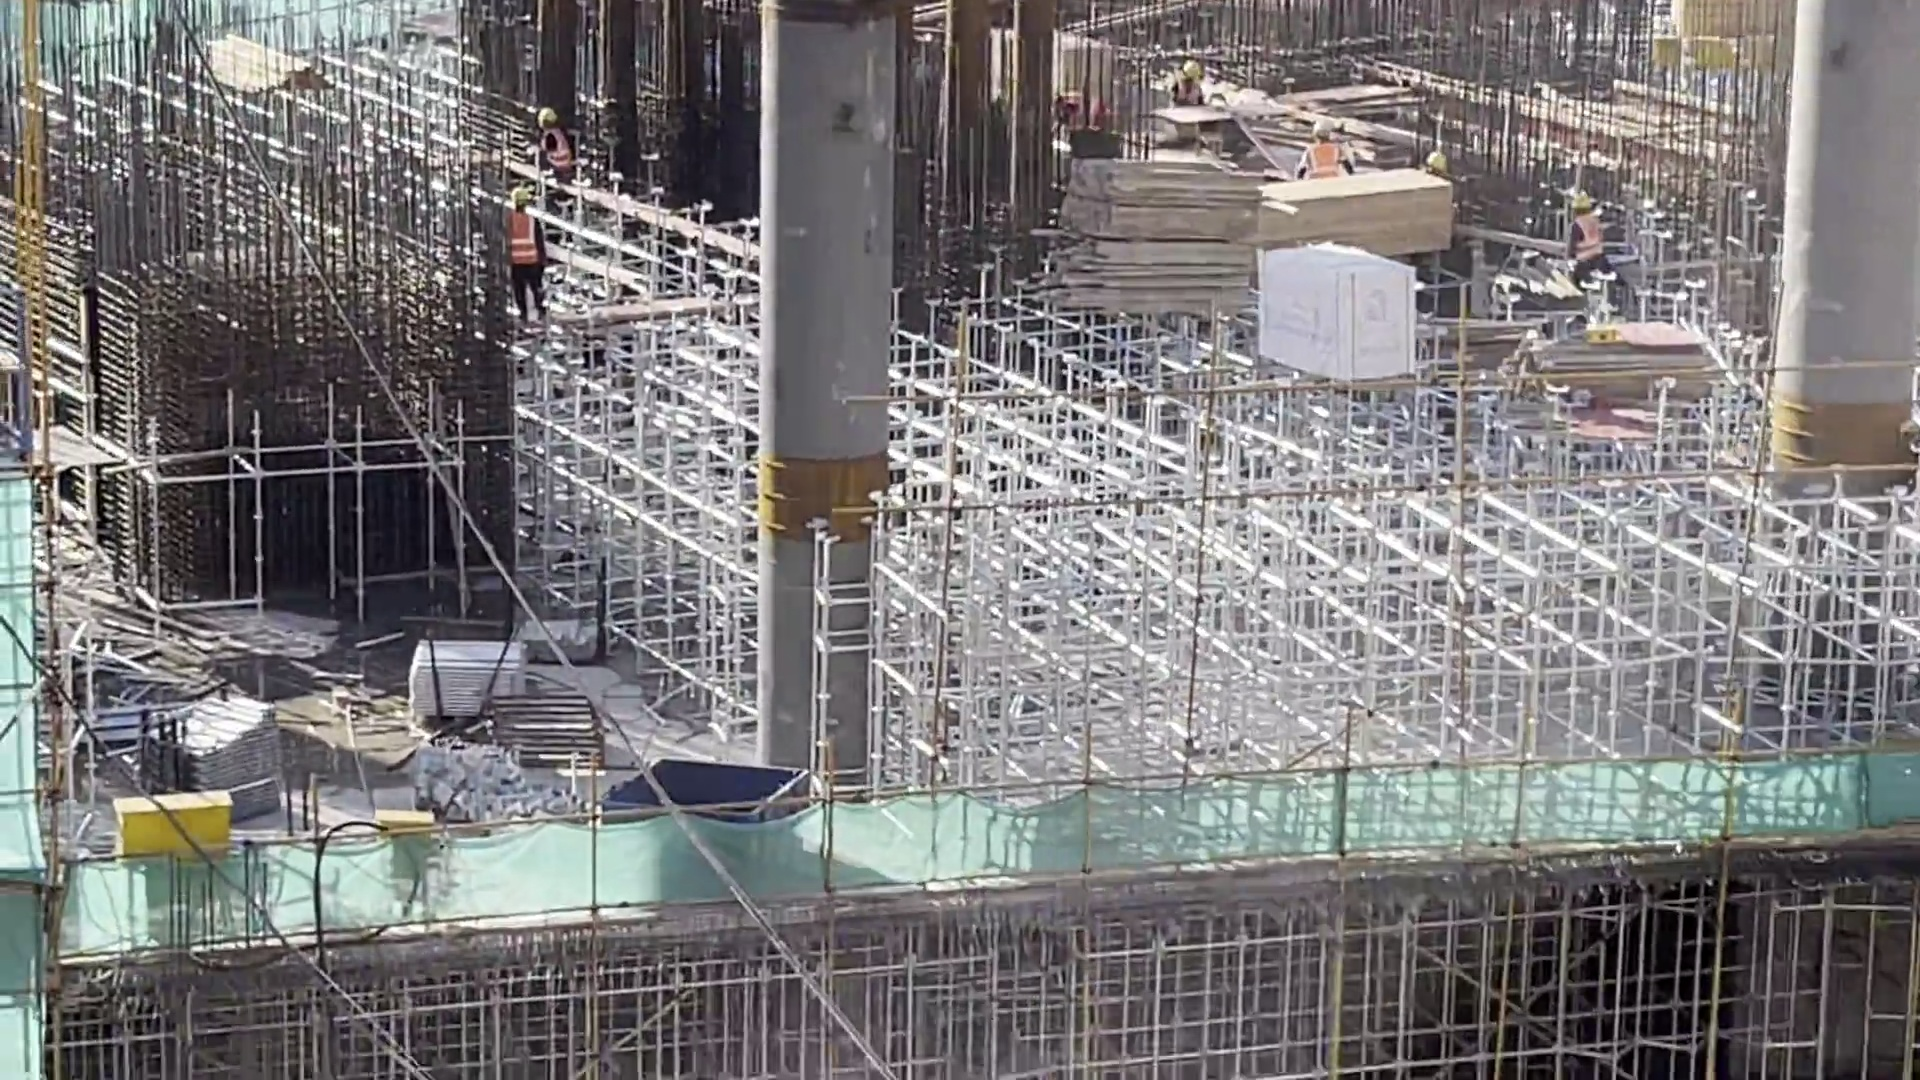board: (1523, 319, 1724, 414)
cutter: (1146, 100, 1292, 166)
ebox: (108, 788, 242, 857), (376, 813, 438, 895)
helmet: (1422, 146, 1451, 173), (1305, 119, 1336, 141), (1569, 193, 1594, 213), (510, 186, 532, 205), (1185, 60, 1203, 80), (536, 107, 555, 123)
hopper: (595, 751, 808, 823)
person: (505, 187, 555, 328), (1291, 118, 1356, 186), (1565, 189, 1609, 286), (533, 106, 578, 184), (1164, 54, 1206, 109)
scaffold: (156, 705, 288, 819), (408, 636, 532, 724)
vest: (510, 209, 538, 266), (538, 130, 571, 171), (1308, 141, 1342, 179), (1572, 216, 1605, 256), (1176, 79, 1204, 104)
wood: (1055, 155, 1256, 321), (1265, 166, 1467, 270)
